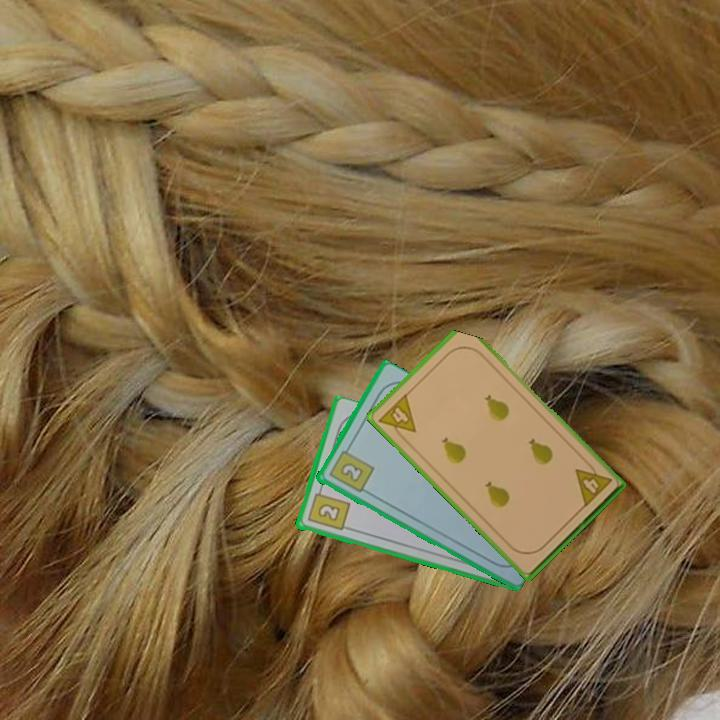2b: (325, 443, 376, 496), (304, 484, 352, 534)
4p: (375, 390, 419, 445), (571, 457, 615, 510)
